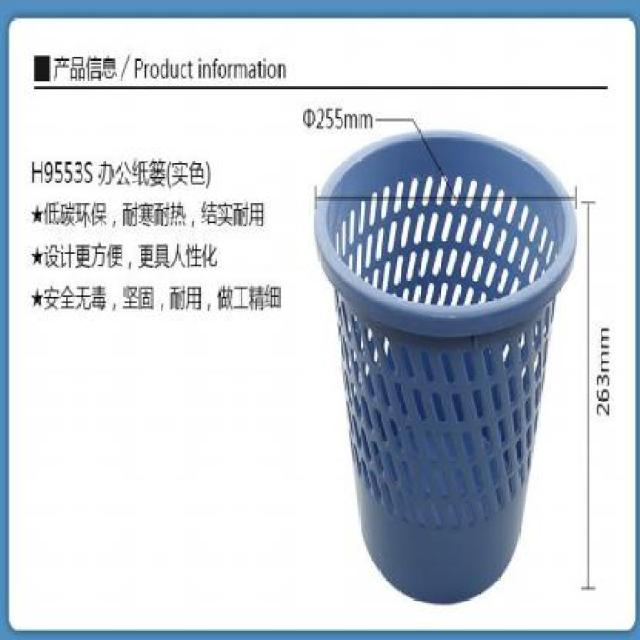dustbin: (308, 123, 584, 609)
